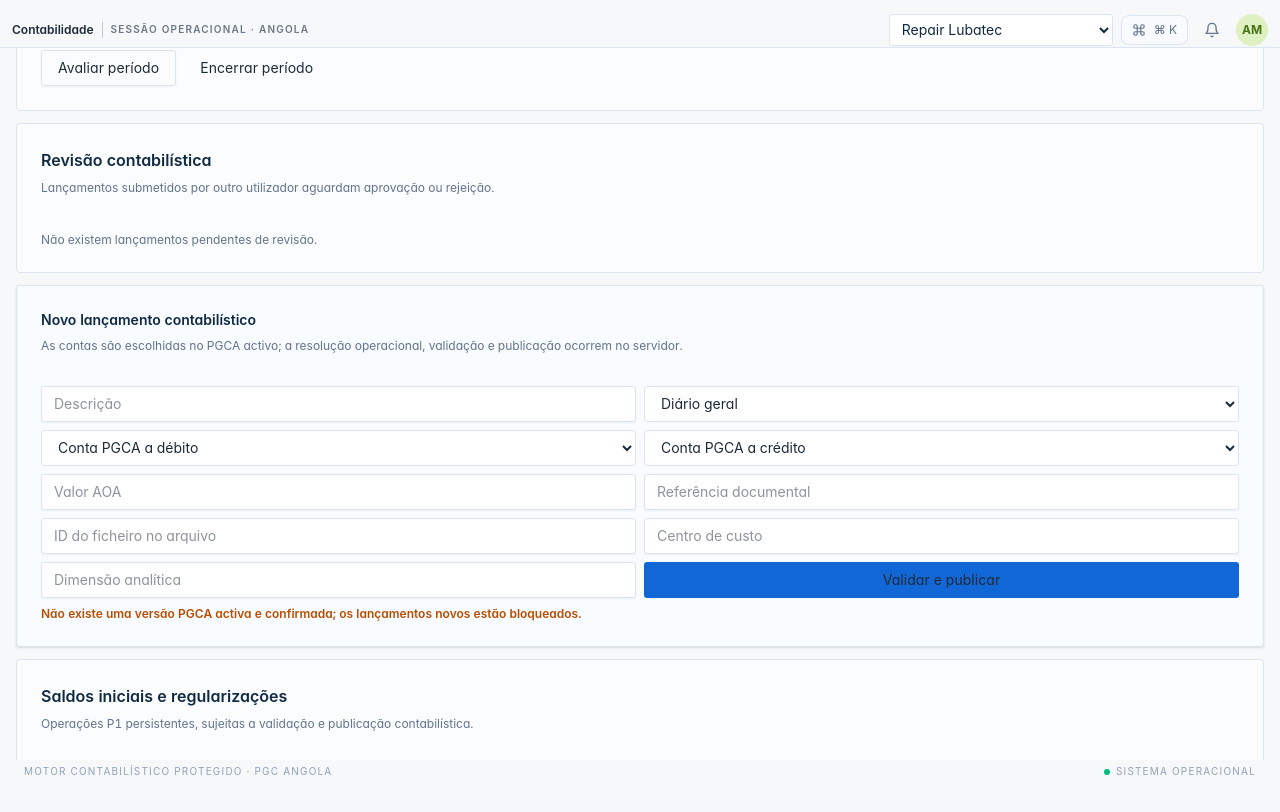
it: Home traceability integration › publishes a balanced accounting entry from the operational post
This screenshot has width=1280, height=812.
(page scrolled)
Type "Ajuste operacional" into the field with placeholder "Descrição" at {"x": 338, "y": 404}, box [41,386,636,422]
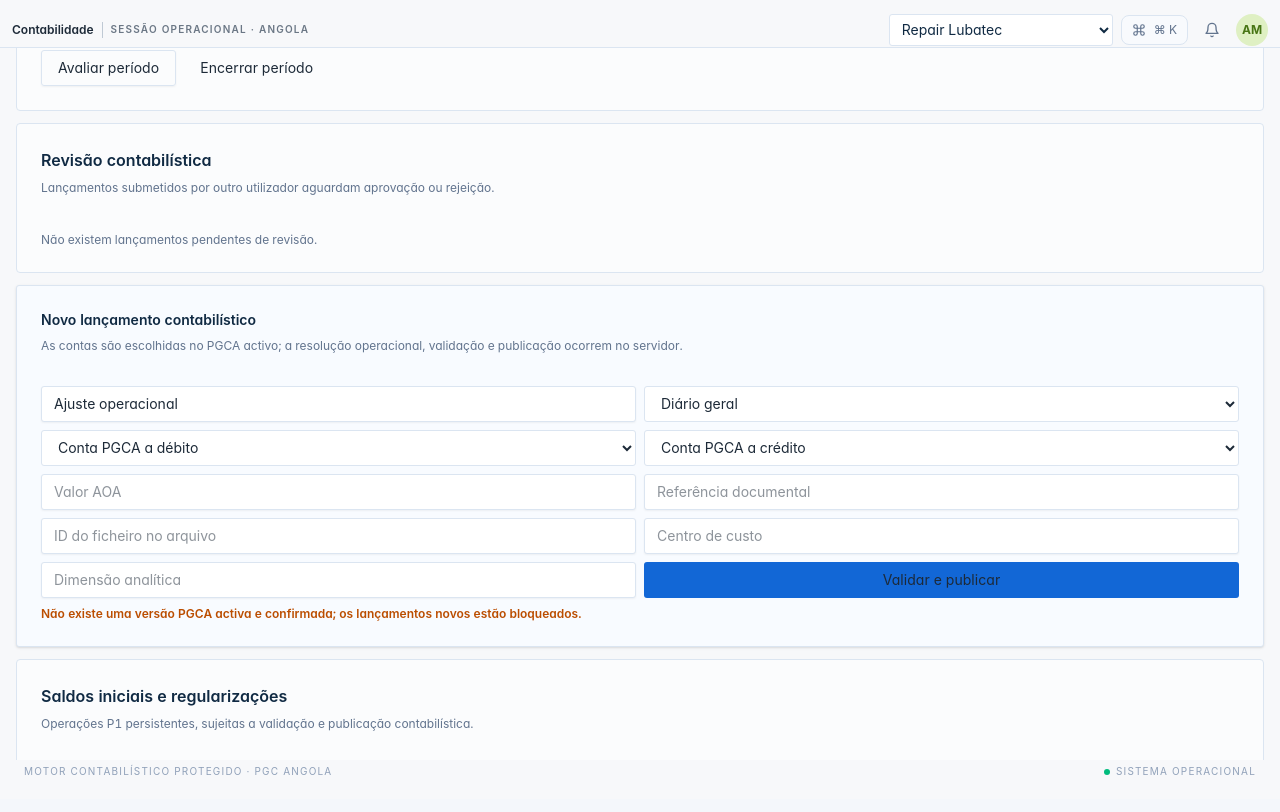
Select "11 · Meios monetários" in the dropdown named "Conta a débito" at {"x": 338, "y": 448}, box [41,430,636,466]
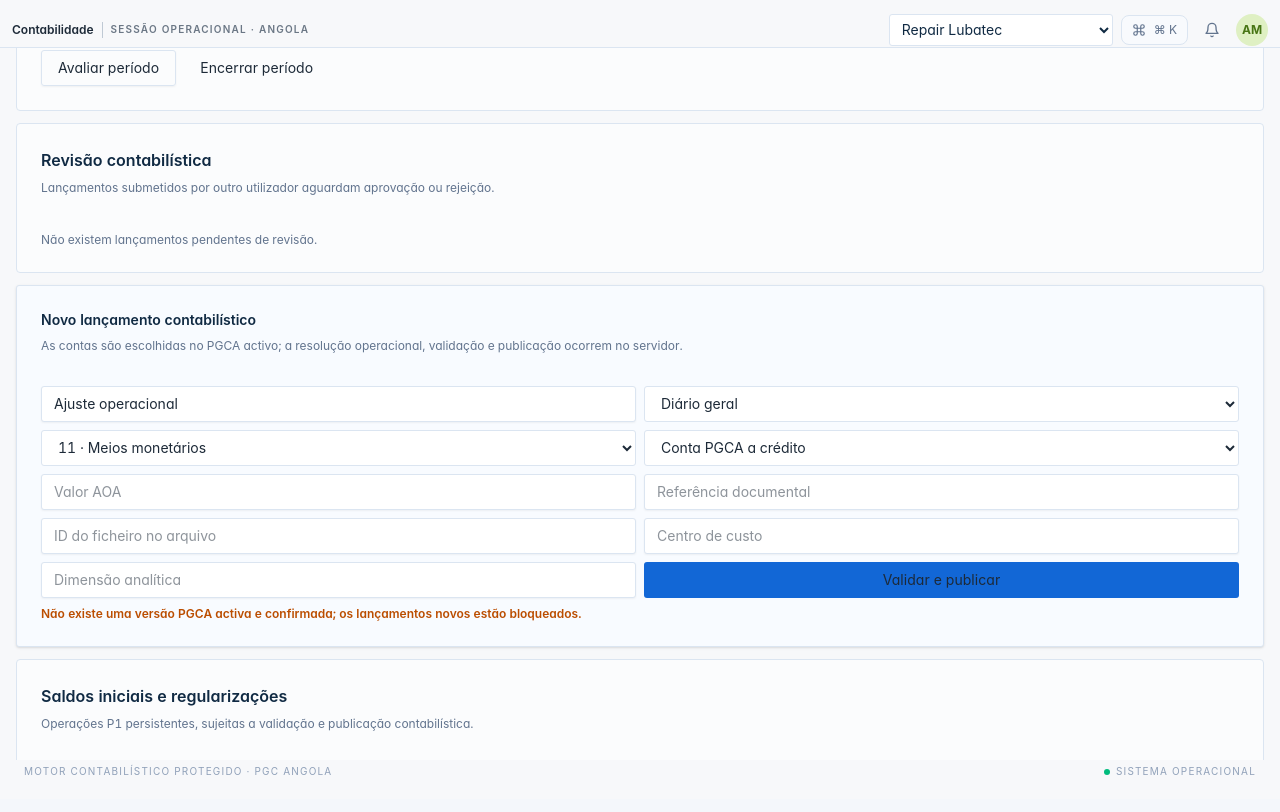
Select "21 · Clientes" in the dropdown named "Conta a crédito" at {"x": 942, "y": 448}, box [644,430,1239,466]
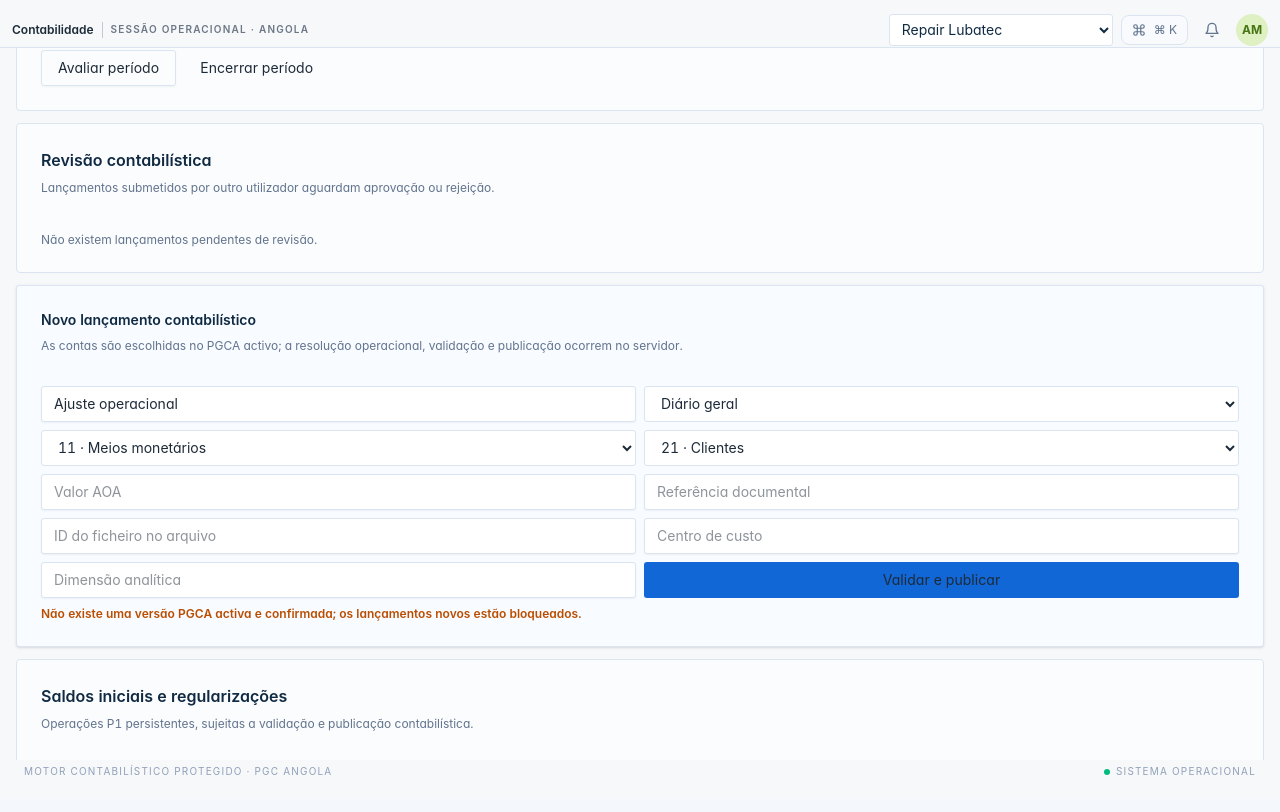
Type "2500" into the number field with placeholder "Valor AOA" at {"x": 338, "y": 492}, box [41,474,636,510]
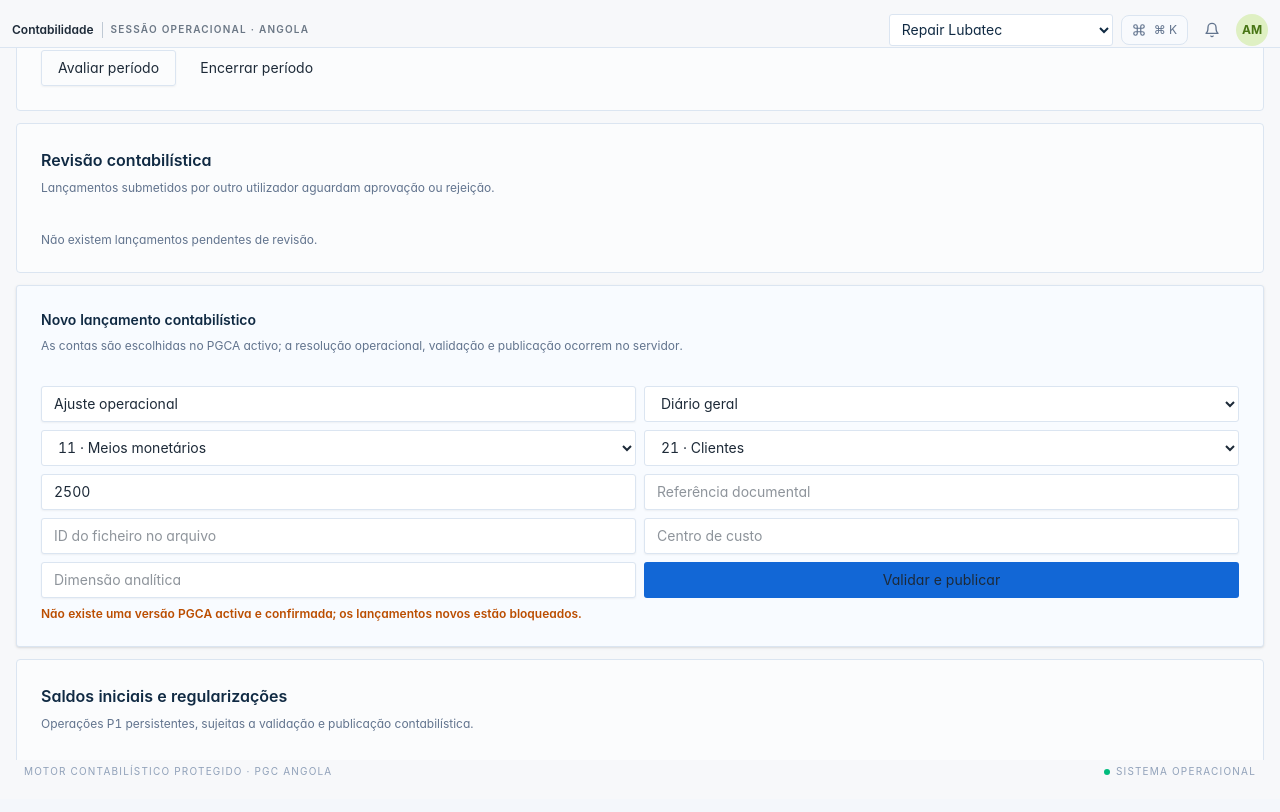
Click the button "Validar e publicar" at {"x": 942, "y": 580}, box [644,562,1239,598]
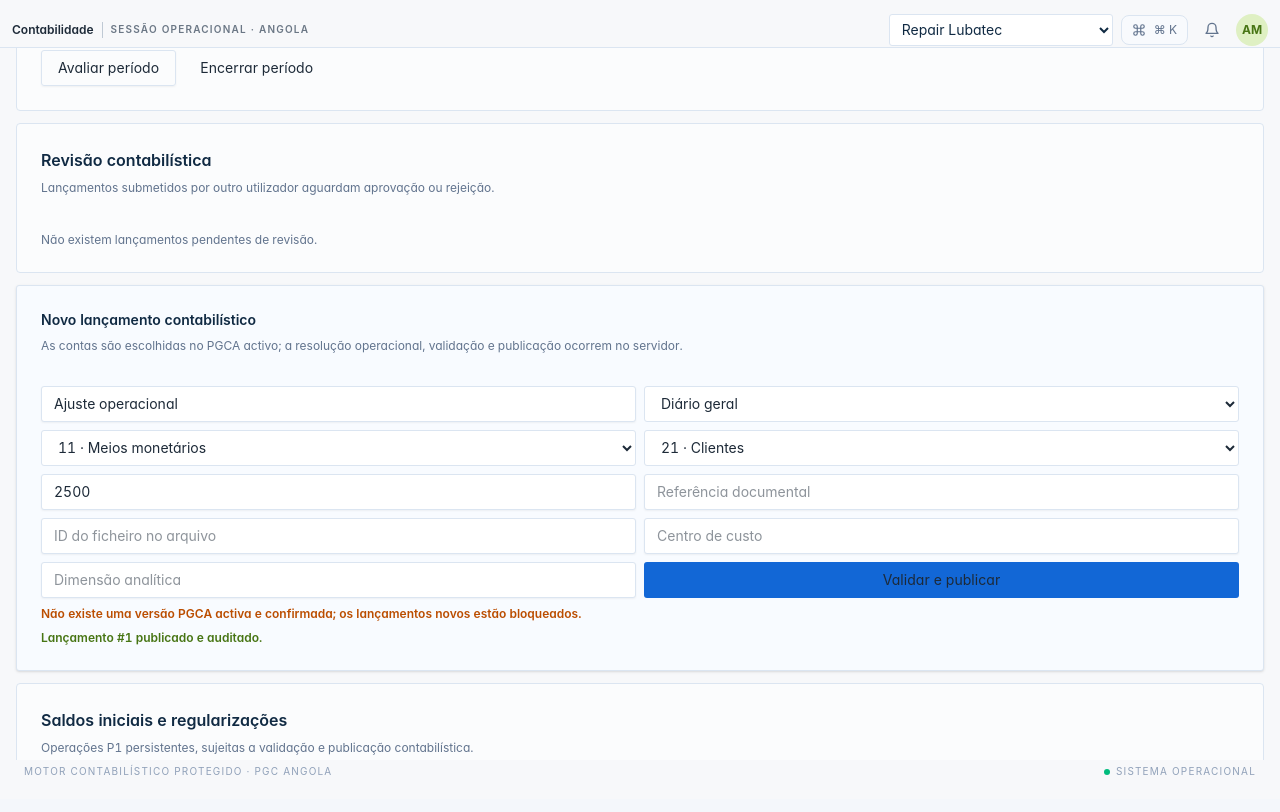
Now the text "Lançamento #1 publicado e auditado." is shown, box [41,630,262,645]
